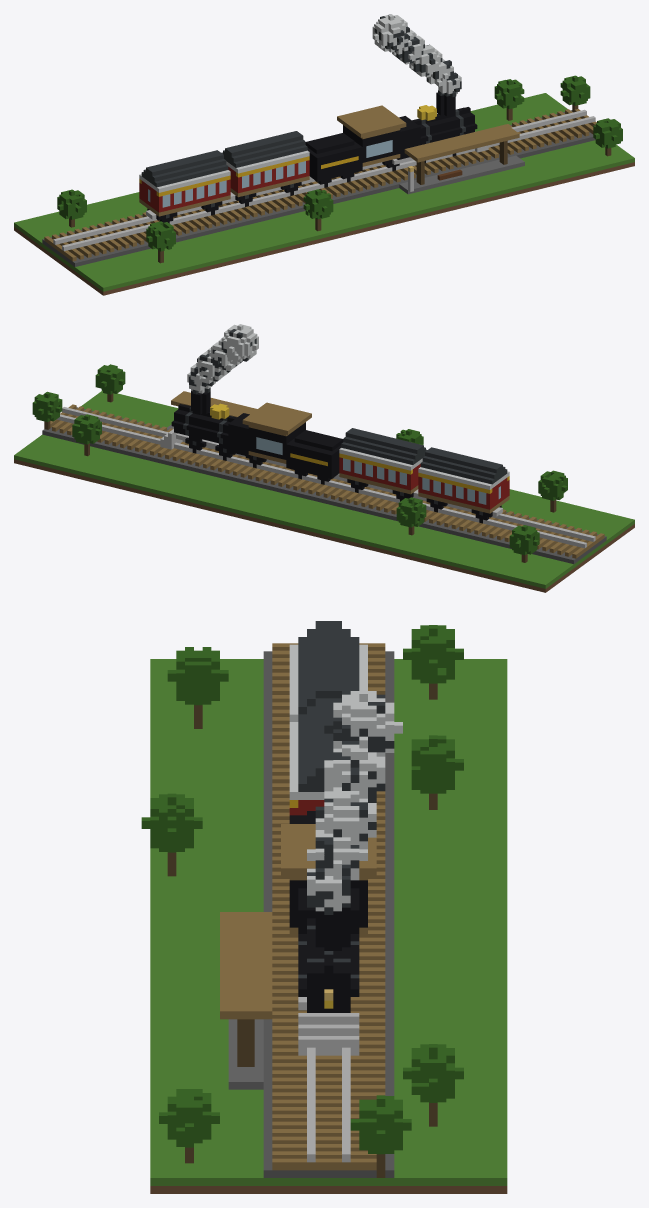
3 renders of one model, top to bottom at view 1: azimuth 30°, elevation 25°; view 2: azimuth 150°, elevation 25°; view 3: azimuth 270°, elevation 25°, orthographic. The views are drawn at different scales.
Size of the model in its own units: 144 by 40 by 42.
